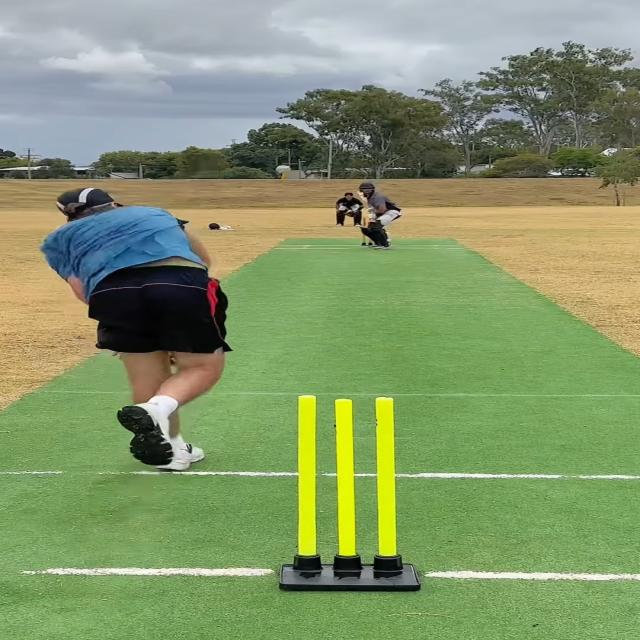ball: (275, 164, 292, 174)
stump: (277, 392, 423, 593)
